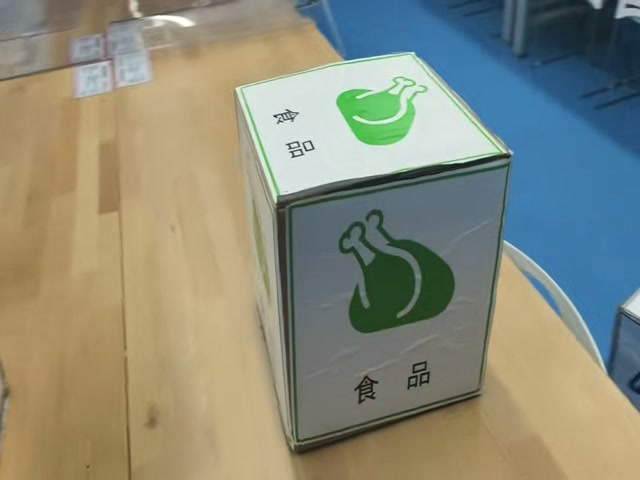Cube_food: (241, 52, 516, 206)
